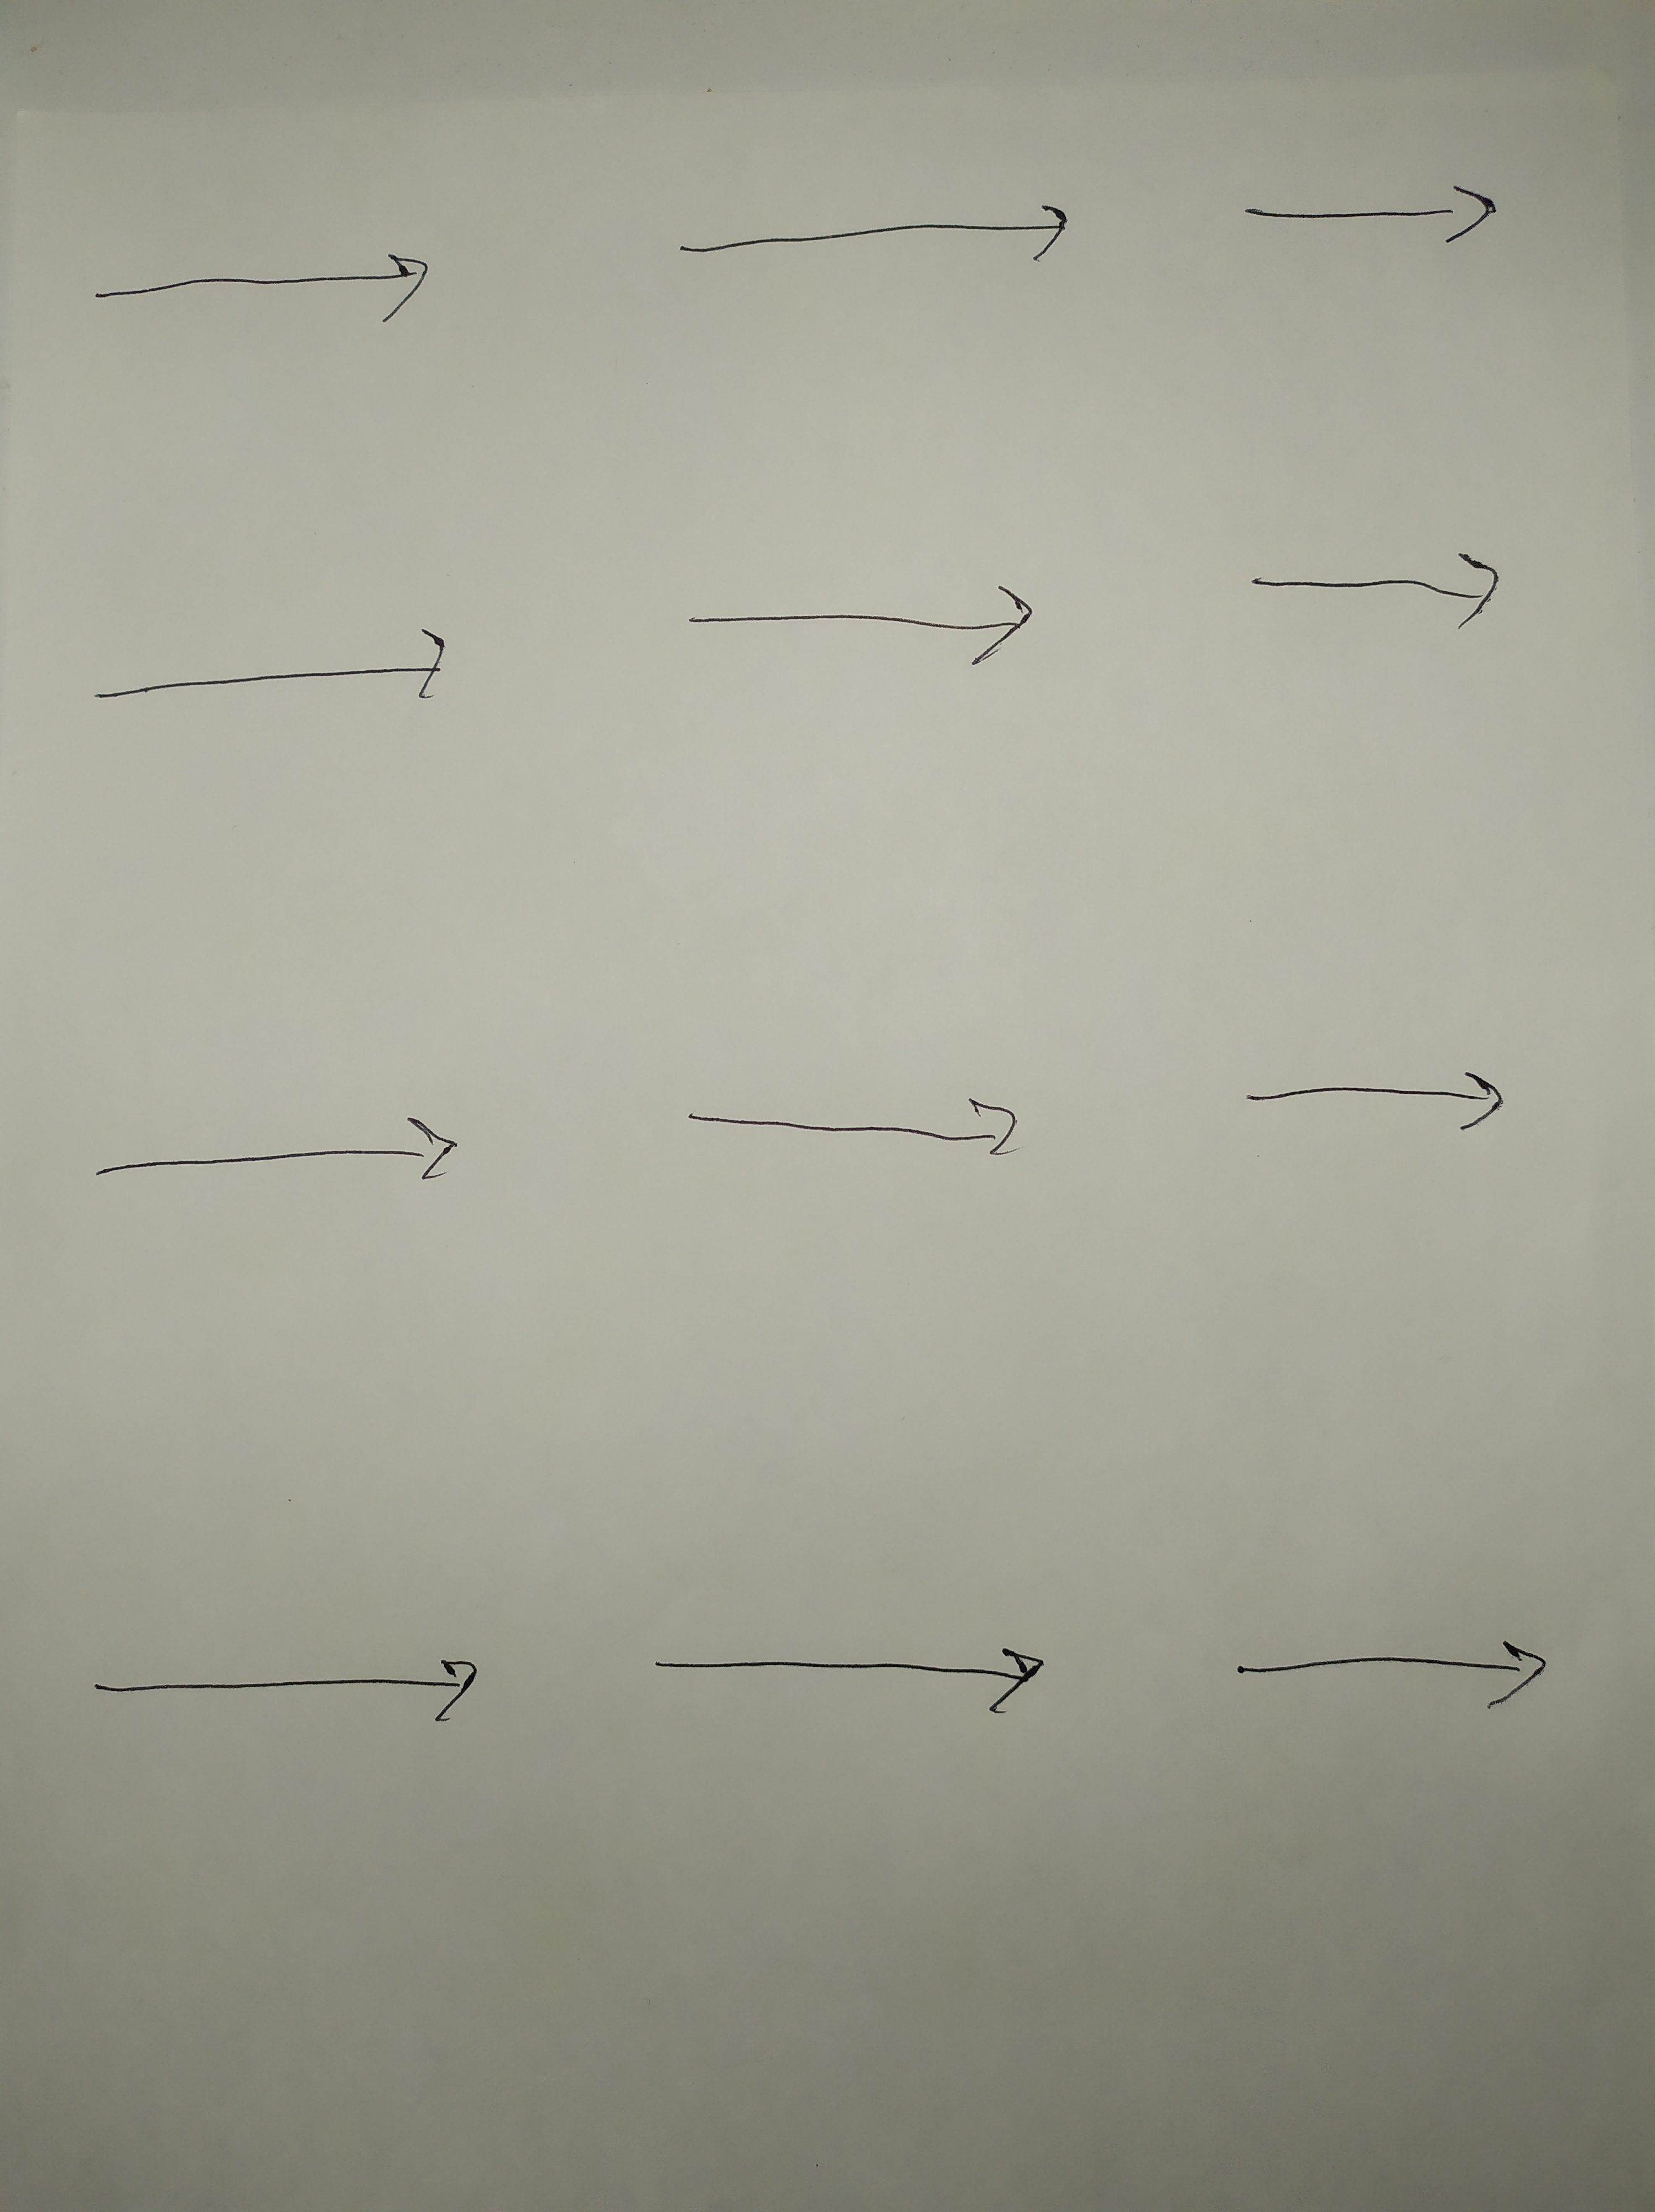arrow_line_right: (619, 1600, 1080, 1755), (657, 547, 1064, 695), (1198, 1604, 1577, 1748), (66, 228, 455, 367), (68, 603, 492, 723), (76, 1625, 515, 1739), (1201, 525, 1551, 664), (75, 1102, 480, 1216), (650, 193, 1087, 295), (661, 1076, 1040, 1180), (1206, 158, 1519, 276), (1210, 1041, 1537, 1147)
